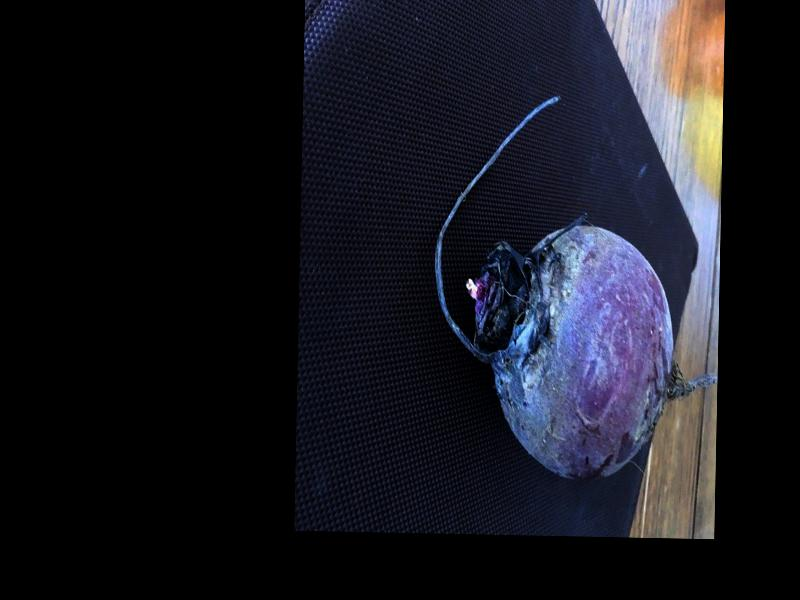Beet: (430, 92, 722, 483)
